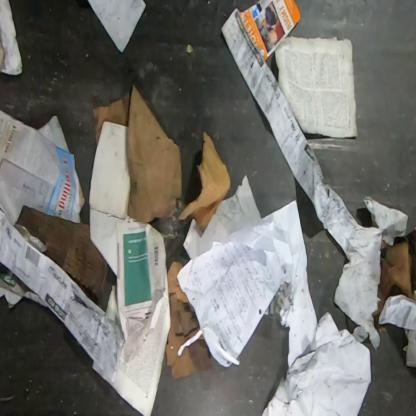cardboard: (88, 120, 168, 364), (92, 84, 183, 224), (16, 204, 109, 307), (165, 260, 213, 381), (178, 130, 231, 235)
